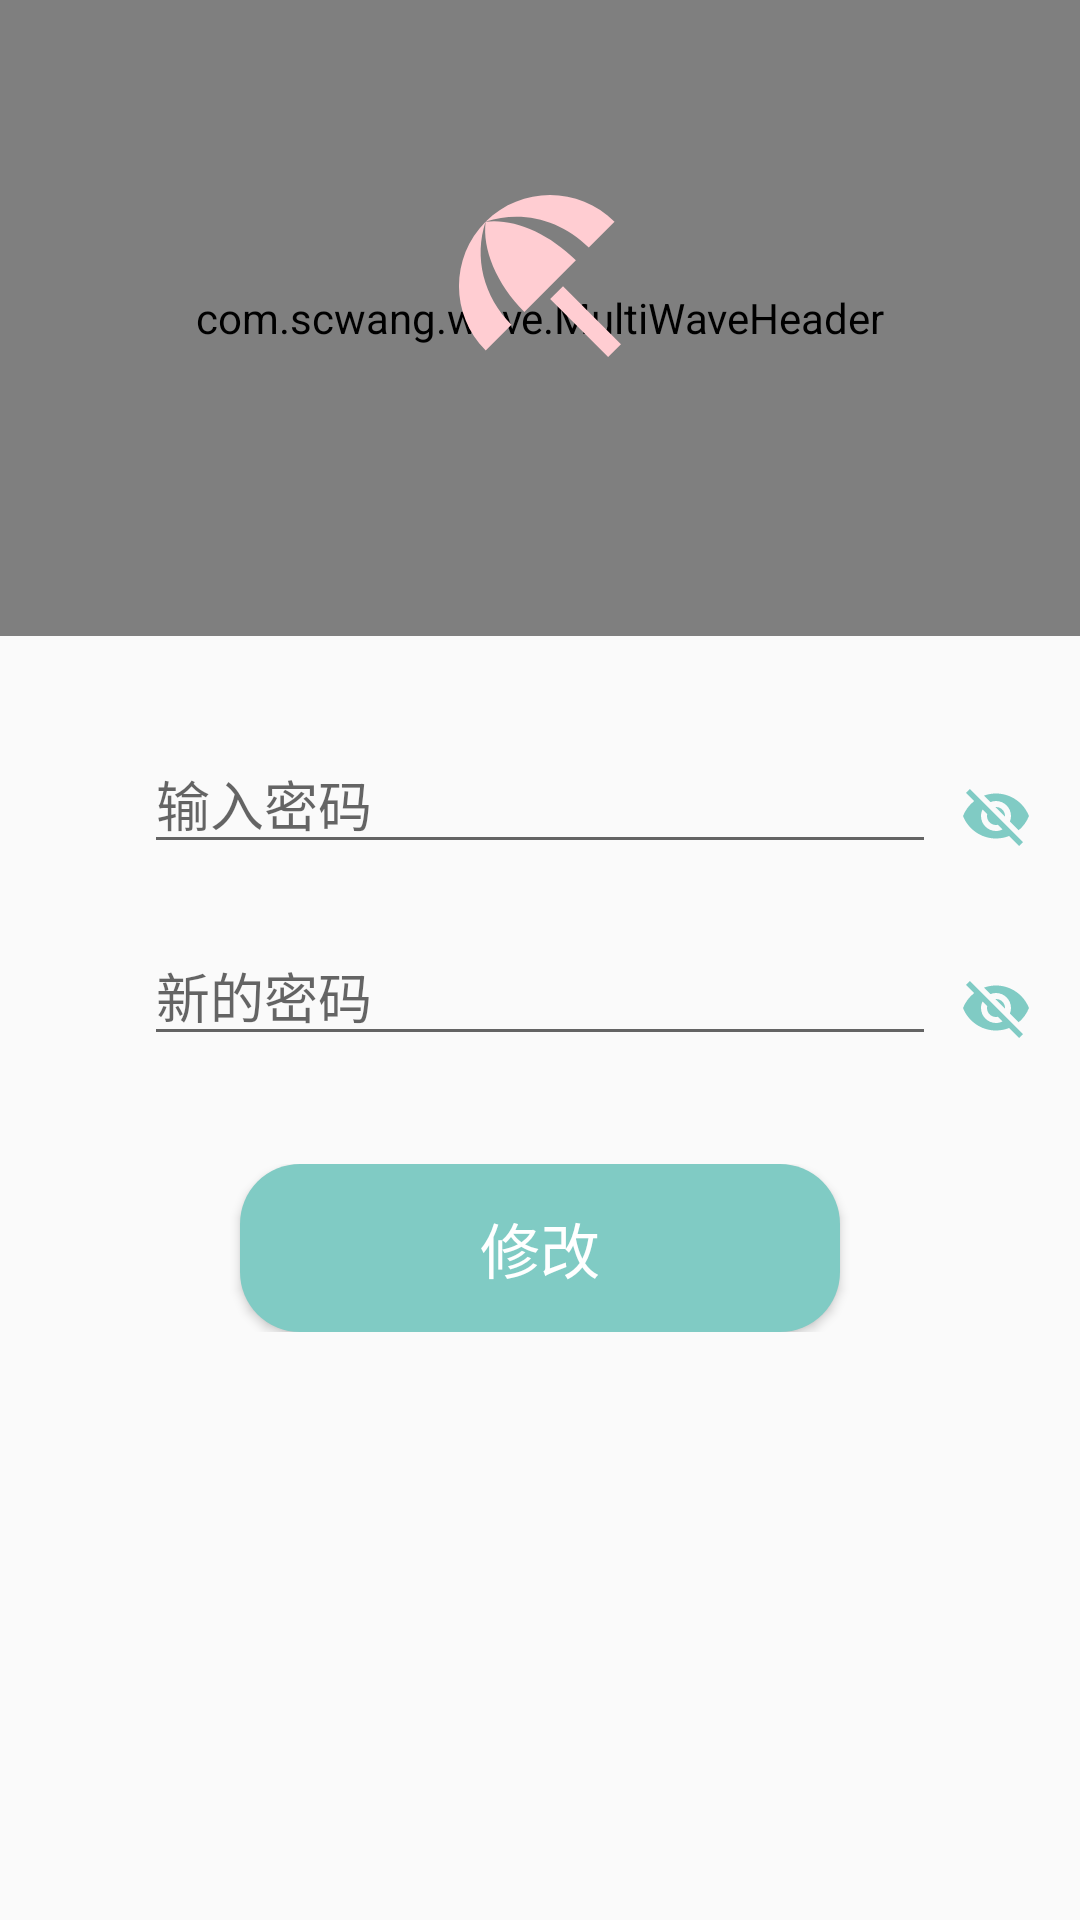

Named icons in this screenshot (1080x1920) and their centers, (x,y):
beach access: (542,276)
visibility off: (996,817), (996,1009)
